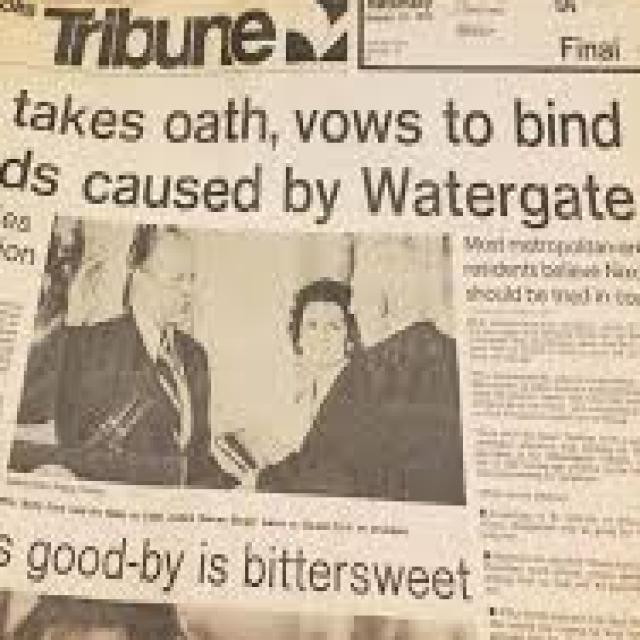organic: (9, 14, 598, 604)
